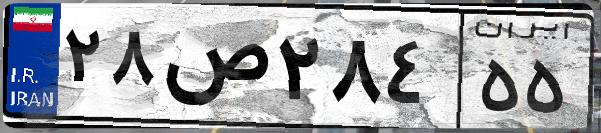2: (270, 28, 330, 110), (57, 26, 110, 100)
4: (385, 28, 445, 110)
5: (475, 38, 525, 113), (525, 38, 570, 115)
8: (330, 28, 385, 110), (110, 28, 158, 98)
ص: (158, 20, 270, 120)
